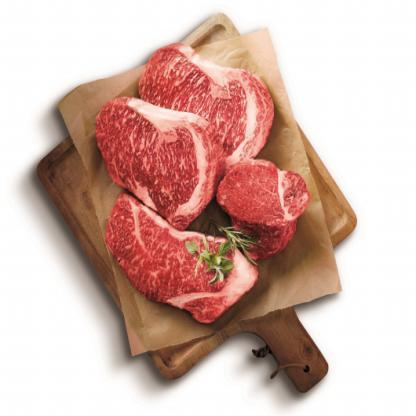beef: (112, 193, 256, 323), (129, 42, 274, 170), (85, 100, 210, 223), (218, 151, 294, 244)
